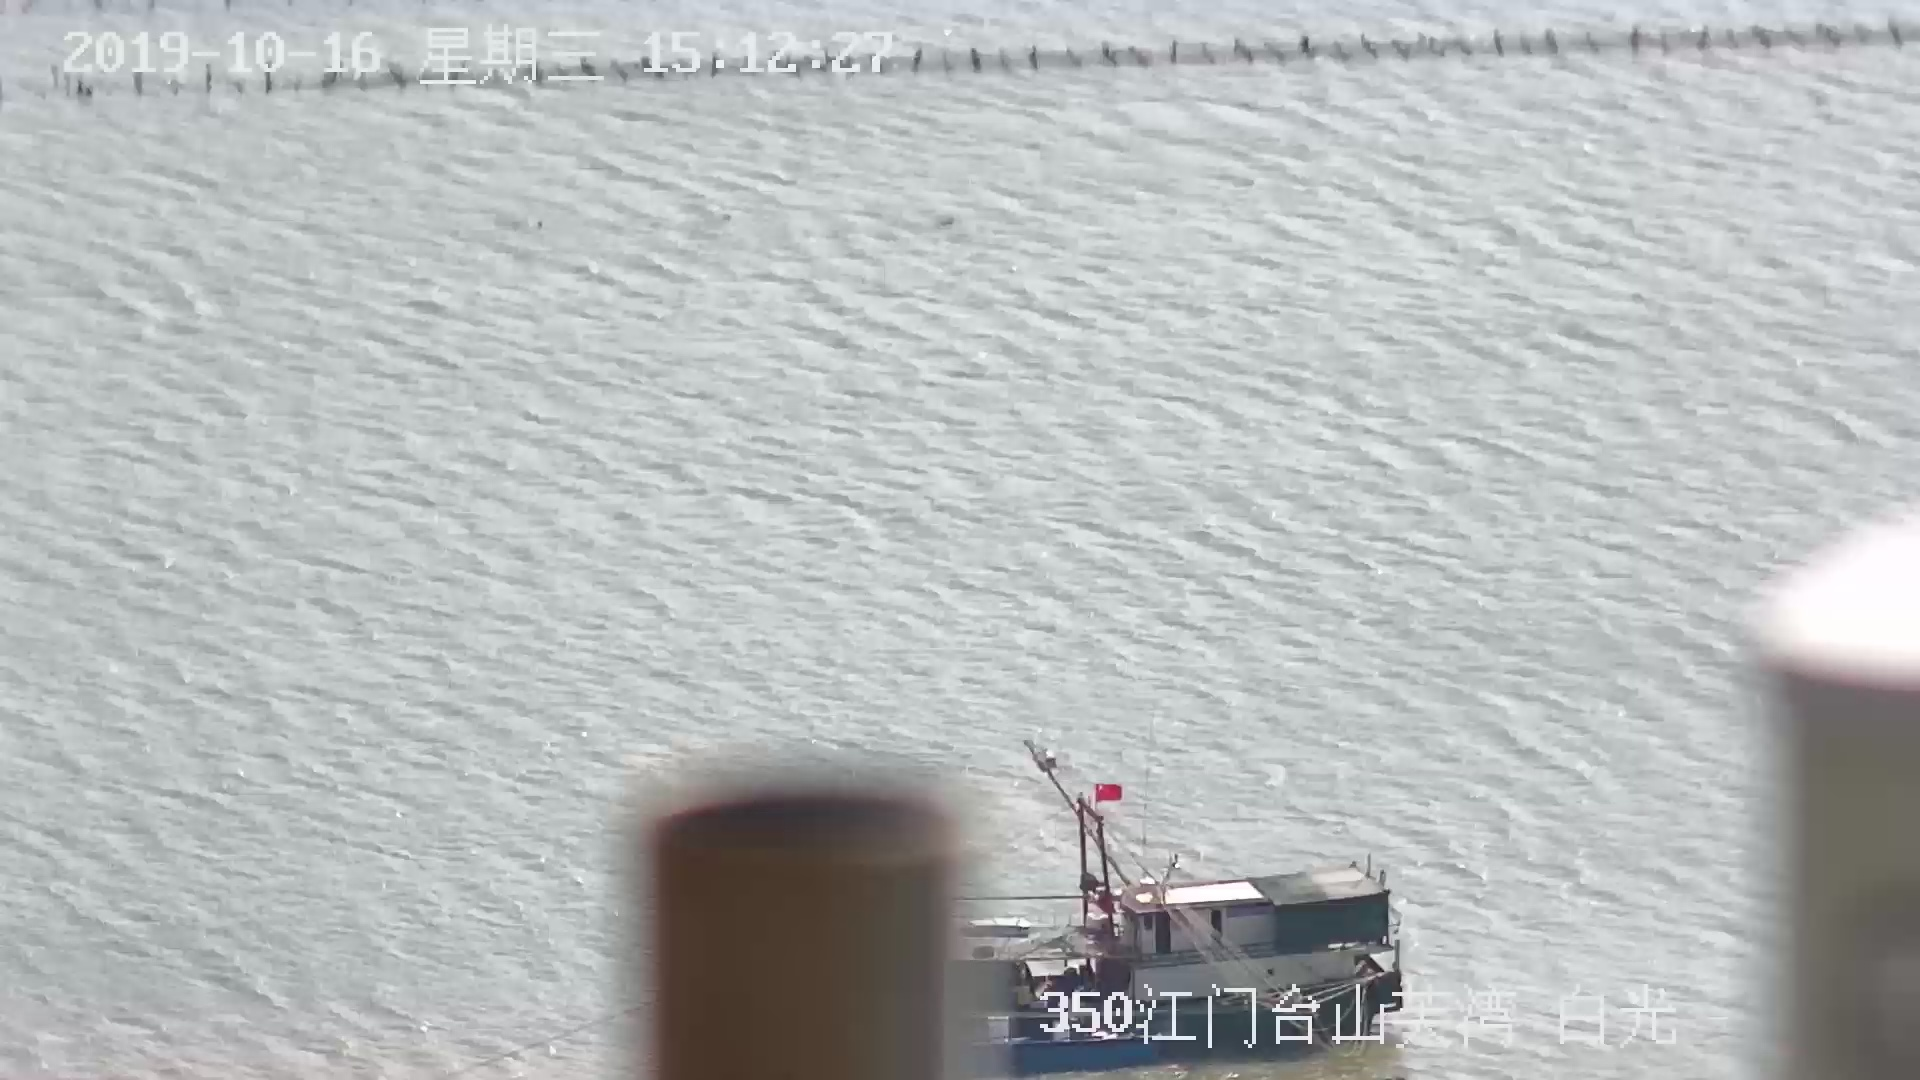ship: (964, 742, 1404, 1065)
